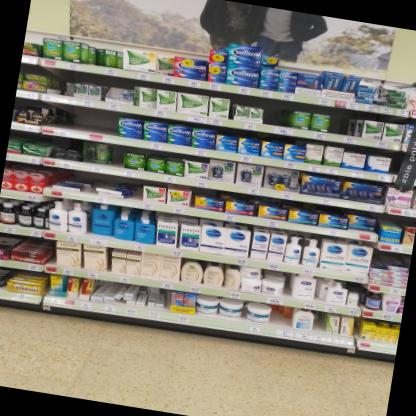empty_space: (54, 100, 120, 135), (260, 96, 293, 129), (327, 108, 357, 137), (269, 302, 294, 327)
